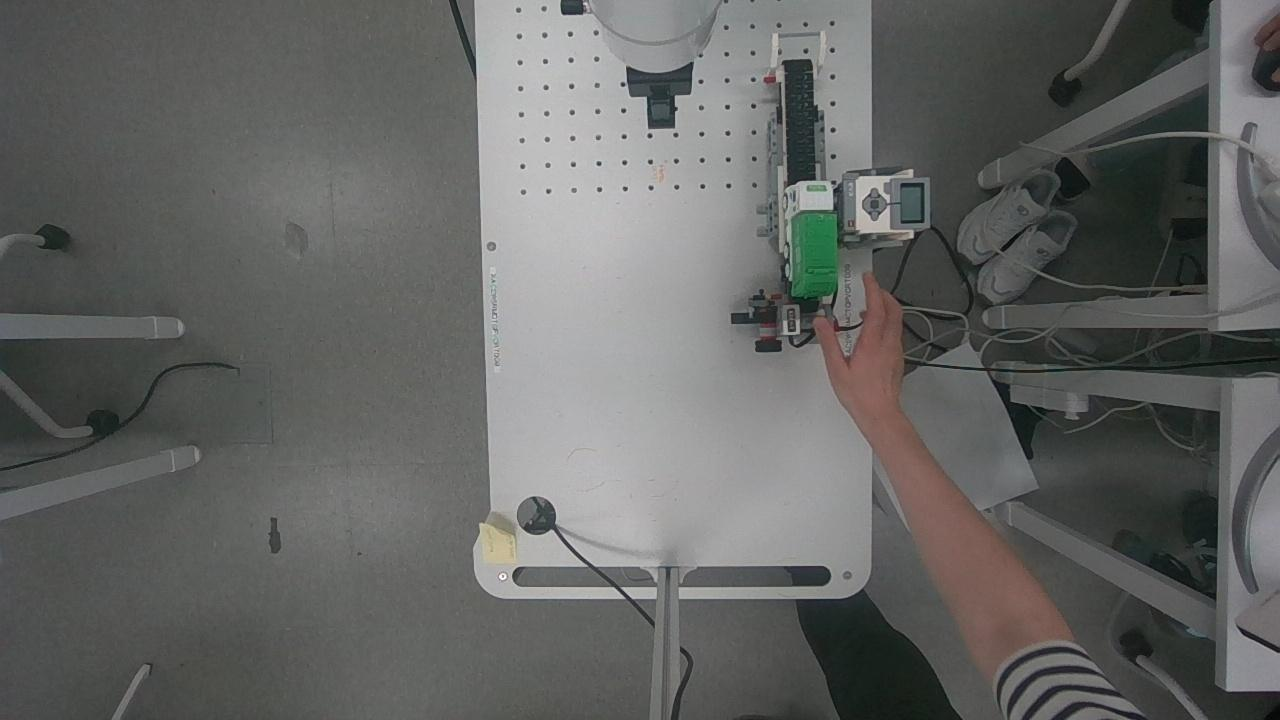truck: (771, 179, 849, 307)
